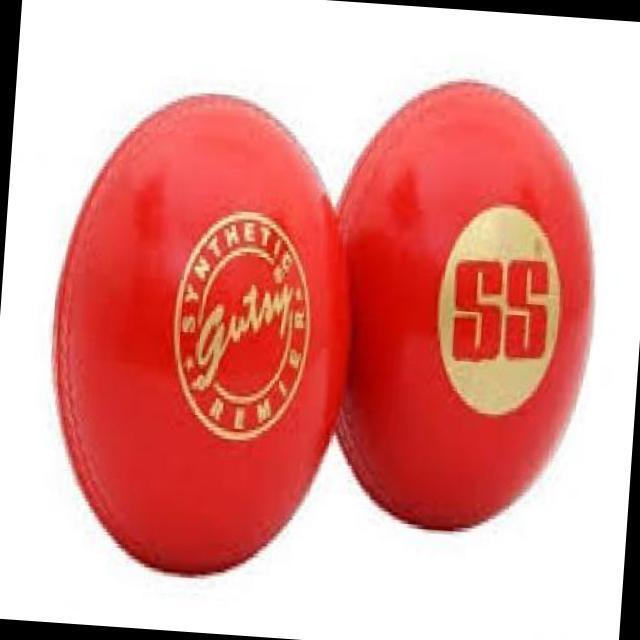-: (25, 95, 366, 580), (330, 81, 604, 526)
